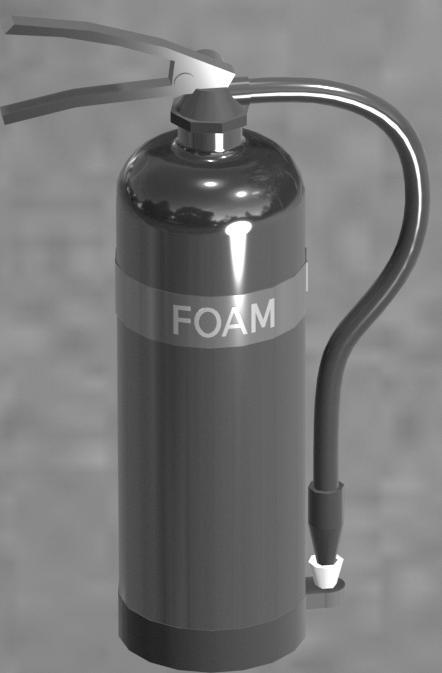Fire Extinguisher: (4, 8, 442, 673)
